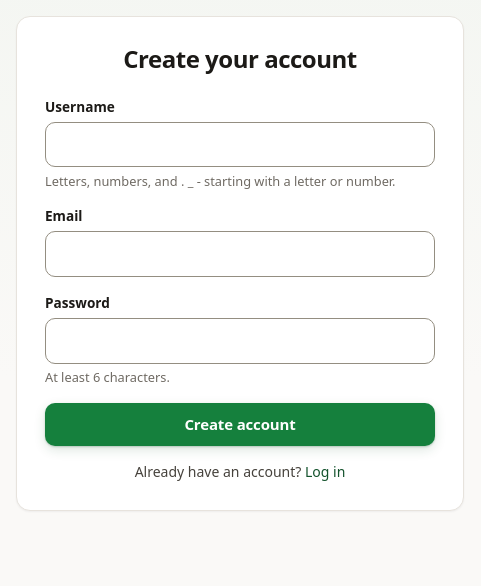
Test: the register form › shows a server refusal as an alert
This screenshot has width=481, height=586.
Type "marta" into the field labelled "Username" at (240, 145), box left=45, top=122, right=435, bottom=167
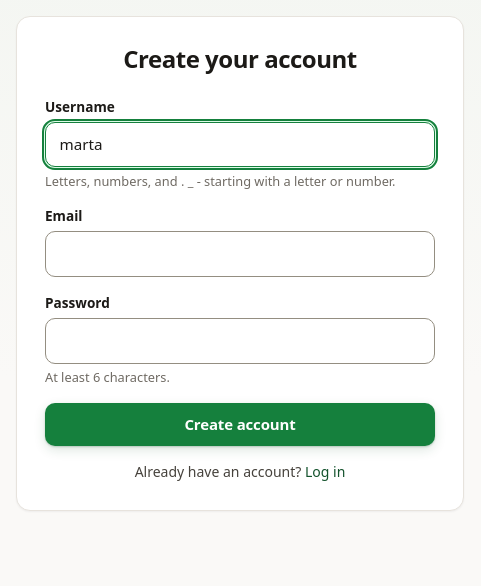
Type "marta@example.com" into the field labelled "Email" at (240, 254), box left=45, top=231, right=435, bottom=277
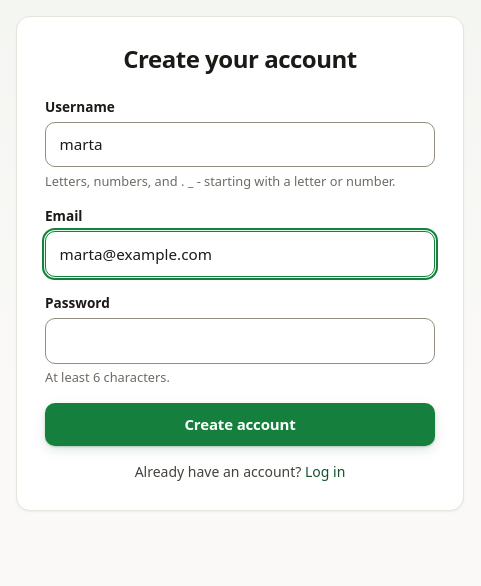
Type "long-enough" into the password field labelled "Password" at (240, 341), box left=45, top=318, right=435, bottom=364
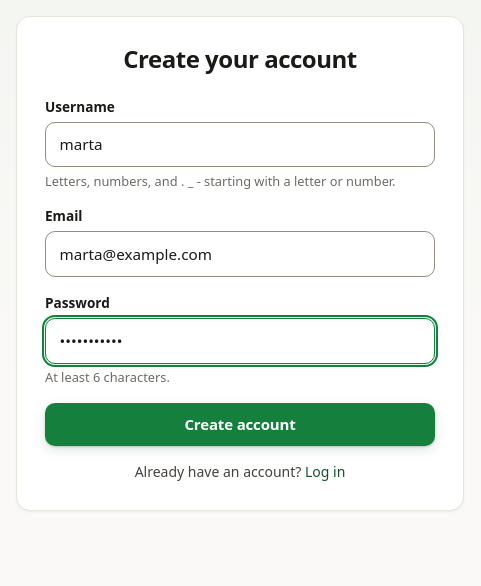
Click the button "Create account" at (240, 424), box left=45, top=403, right=435, bottom=446
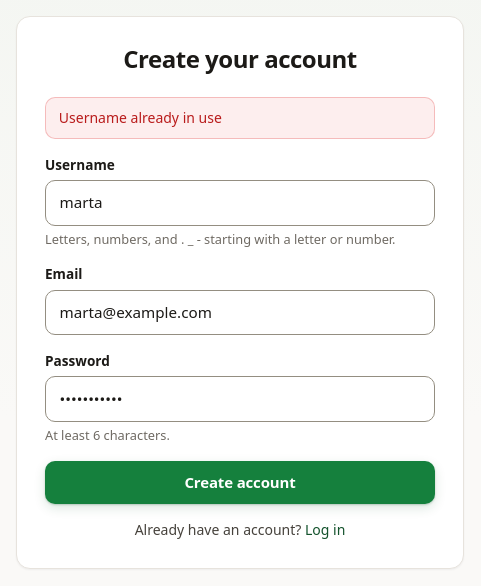
Check: the message shows "already in use", box left=59, top=108, right=222, bottom=127
